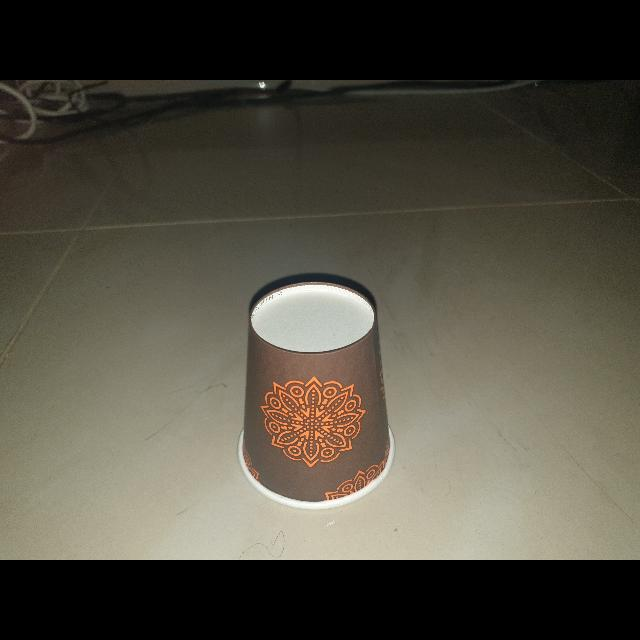trash: (235, 272, 402, 514)
